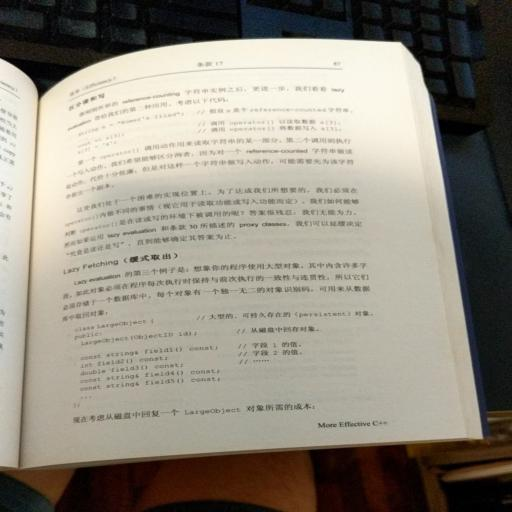paper: (53, 38, 491, 473)
